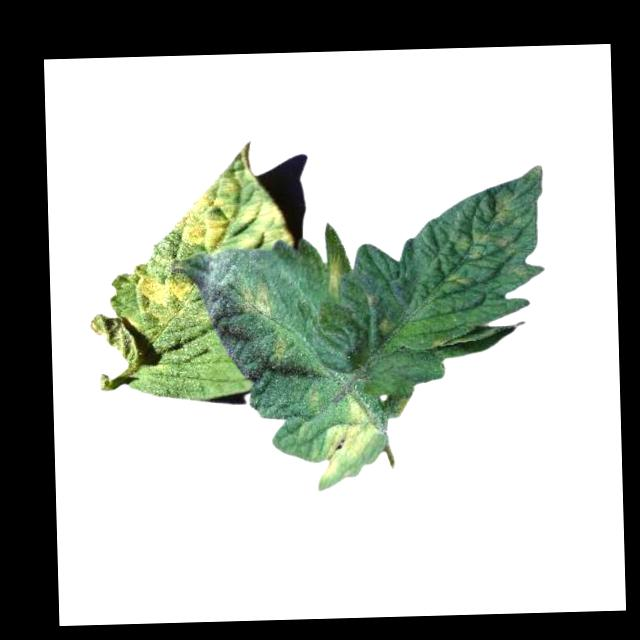Leaf_Mold: (166, 143, 295, 257), (450, 182, 539, 280), (309, 397, 383, 492), (126, 266, 196, 327), (322, 247, 346, 305), (243, 278, 274, 319)
